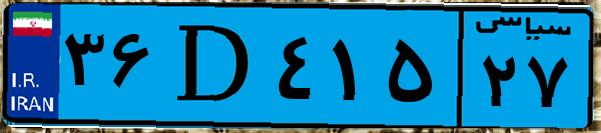1: (330, 28, 385, 110)
2: (475, 38, 525, 113)
3: (57, 26, 110, 100)
4: (270, 28, 330, 110)
5: (385, 28, 445, 110)
6: (110, 28, 158, 98)
7: (525, 38, 570, 115)
D: (158, 12, 270, 120)
